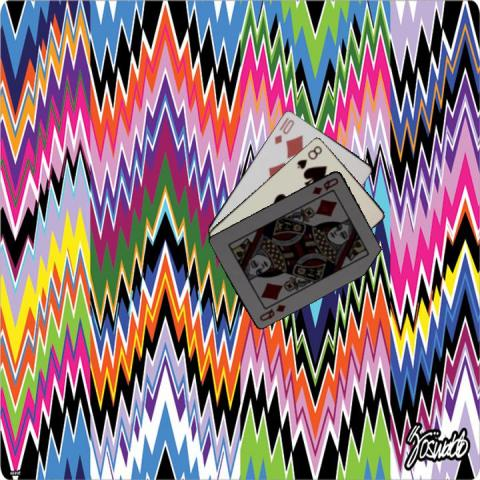10d: (271, 116, 296, 145)
8s: (294, 143, 323, 170)
Qd: (309, 174, 340, 196), (257, 301, 287, 323)
